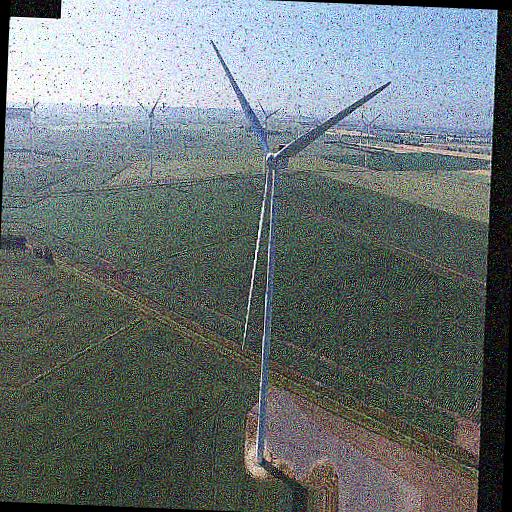wind turbine: (205, 39, 391, 470), (134, 89, 165, 176)
